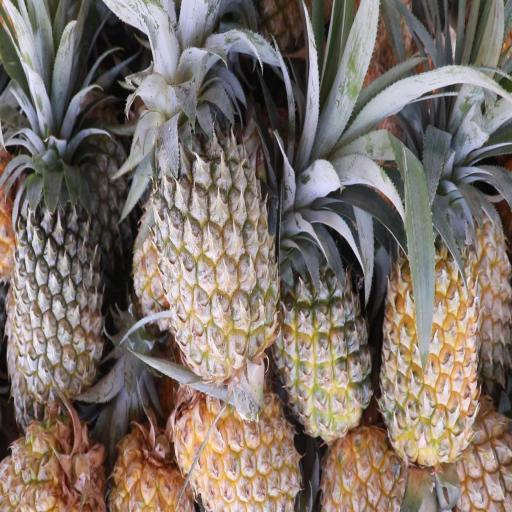------------------------------: (146, 38, 282, 389), (268, 196, 374, 448)
Pineapple - v8 v1: (378, 173, 484, 473), (170, 381, 302, 510)
